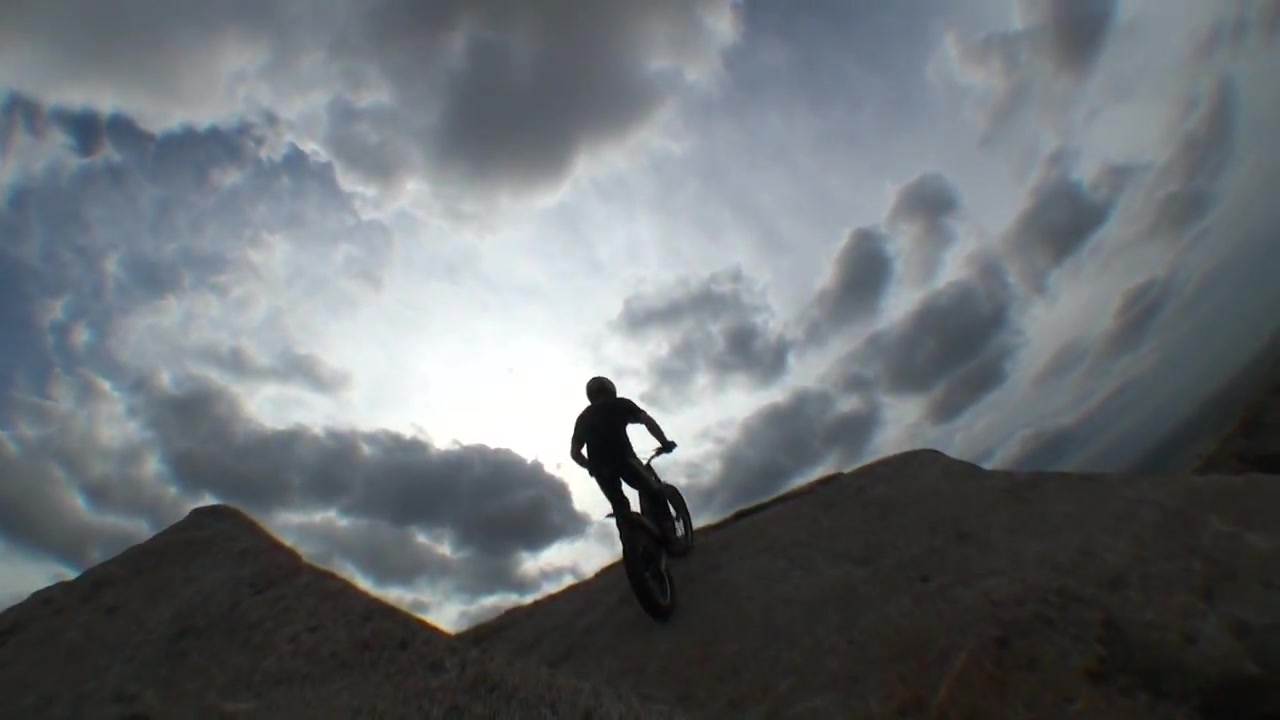motorbike: (604, 441, 699, 618)
